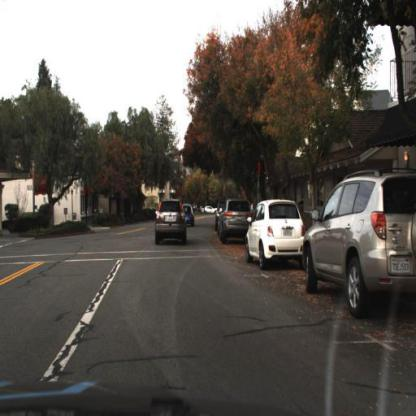car: (302, 168, 416, 316), (243, 199, 307, 266), (153, 197, 191, 252), (217, 198, 254, 244), (181, 203, 196, 231)
